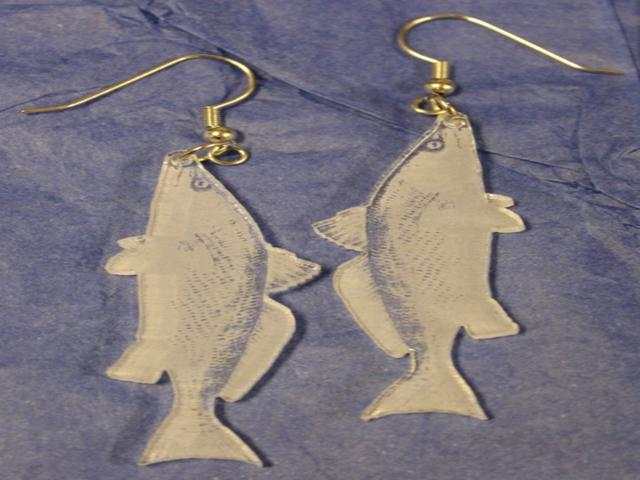fish: (332, 81, 554, 453), (99, 134, 316, 470)
